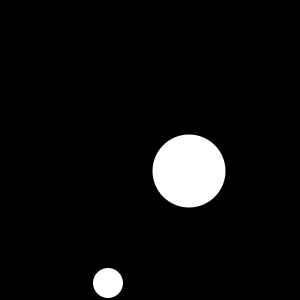rectangle: (152, 134, 226, 208), (93, 268, 123, 298)
